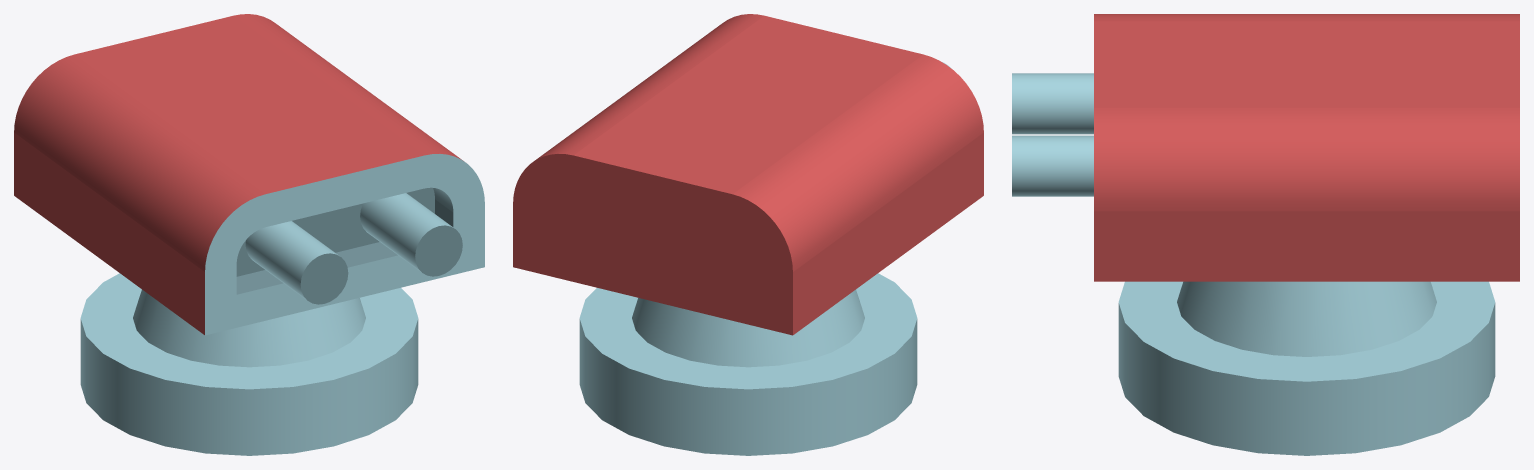
File: weapon_blaster.glb
3 views of the same model, side by side, from view 1: azimuth 30°, elevation 25°; view 2: azimuth 150°, elevation 25°; view 3: azimuth 270°, elevation 25° (orthographic). The views are drawn at different scales.
Parts seen in each view (by area): view 1: weapon_blaster.1; view 2: weapon_blaster.1; view 3: weapon_blaster.1.
Boxes of the visible parts, <box> form: weapon_blaster.1: <box>14,14,484,455</box>; weapon_blaster.1: <box>513,14,983,455</box>; weapon_blaster.1: <box>1012,14,1519,455</box>.
Size of the model in its own units: 4.6 by 4.2 by 6.2.
